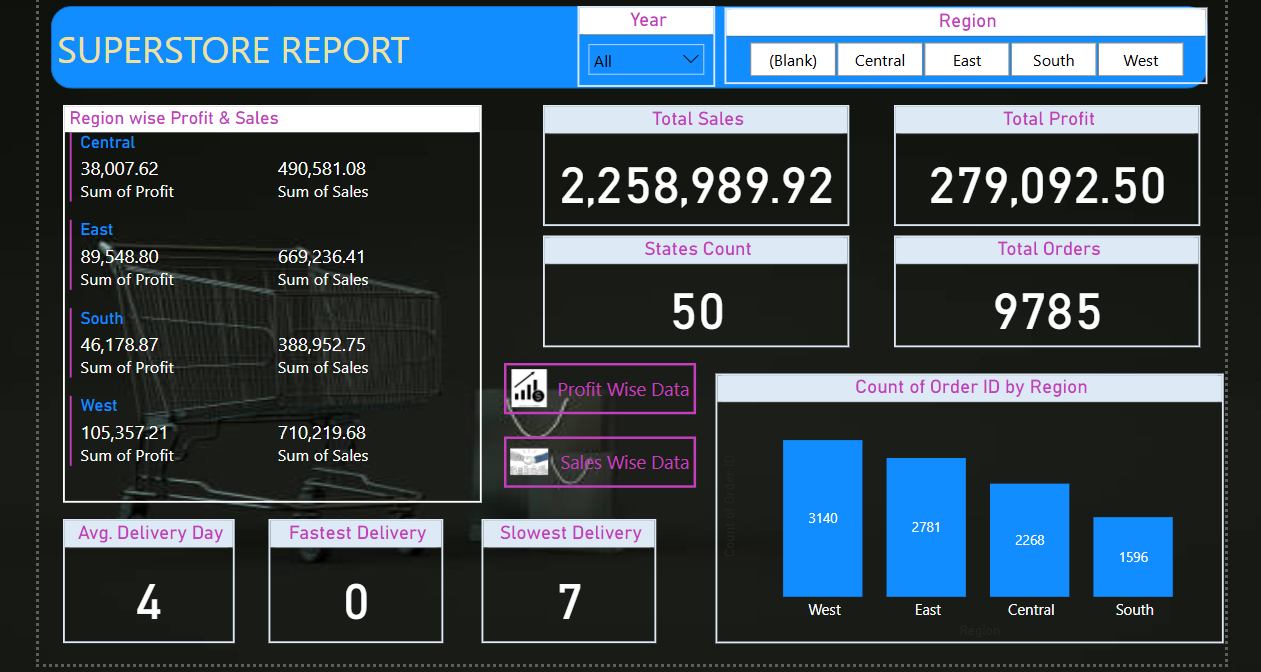

This screenshot's page, from the dashboard's own definition file:
{"tool":"powerbi","page":{"name":"Home","canvas":[1280,720],"ordinal":0},"visuals":[{"type":"shape","box":[13,9.7,1248.4,89.1],"z":0},{"type":"card","title":"Total Orders","fields":{"Values":["CountNonNull(Orders.Order ID)"]},"box":[922.2,257,330.7,120.9],"z":1000},{"type":"slicer","title":"Year","fields":{"Values":["Orders.Order Date.Variation.Date Hierarchy.Year"]},"box":[581.3,9.7,149,87.4],"z":2000},{"type":"card","title":"Total Sales","fields":{"Values":["Sum(Orders.Sales)"]},"box":[544.3,117.2,330.7,130.4],"z":3000},{"type":"slicer","title":"Region","fields":{"Values":["Orders.Region"]},"box":[740,11.3,521.4,82.6],"z":4000},{"type":"card","title":"Avg. Delivery Day","fields":{"Values":["Avg(Orders.Delivery_time)"]},"box":[26.5,563.2,185.2,134.2],"z":5000},{"type":"card","title":"Slowest Delivery","fields":{"Values":["Max(Orders.Delivery_time)"]},"box":[478.1,563.2,189,134.2],"z":6000},{"type":"card","title":"Fastest Delivery","fields":{"Values":["Min(Orders.Delivery_time)"]},"box":[247.6,563.2,189,134.2],"z":7000},{"type":"card","title":"Total Profit","fields":{"Values":["Sum(Orders.Profit)"]},"box":[922.2,117.2,330.7,130.4],"z":8000},{"type":"multiRowCard","title":"Region wise Profit & Sales","fields":{"Values":["Orders.Region","Sum(Orders.Profit)","Sum(Orders.Sales)"]},"box":[25.9,116.6,451.8,429.1],"z":9000},{"type":"card","title":"States Count","fields":{"Values":["Count(Orders.State)"]},"box":[544.3,257,330.7,120.9],"z":10000},{"type":"columnChart","fields":{"Category":["Orders.Region"],"Y":["CountNonNull(Orders.Order ID)"]},"box":[730.3,406.4,548.9,291.5],"z":11000},{"type":"actionButton","box":[502,395.1,207.3,55.1],"z":12000},{"type":"actionButton","box":[502,474.4,207.3,55.1],"z":12001}]}

Visuals, with their boxes in screenshot pixels (x1, y1, x2, y2):
shape: bbox=[51, 2, 1202, 85]
"Total Orders" card: bbox=[890, 230, 1195, 342]
"Year" slicer: bbox=[575, 2, 713, 83]
"Total Sales" card: bbox=[541, 101, 846, 222]
"Region" slicer: bbox=[722, 4, 1202, 80]
"Avg. Delivery Day" card: bbox=[64, 513, 235, 636]
"Slowest Delivery" card: bbox=[480, 513, 655, 636]
"Fastest Delivery" card: bbox=[268, 513, 442, 636]
"Total Profit" card: bbox=[890, 101, 1195, 222]
"Region wise Profit & Sales" multiRowCard: bbox=[63, 101, 480, 497]
"States Count" card: bbox=[541, 230, 846, 342]
columnChart - Orders.Region x CountNonNull(Orders.Order ID): bbox=[713, 368, 1219, 637]
actionButton: bbox=[502, 358, 693, 409]
actionButton: bbox=[502, 431, 693, 482]
